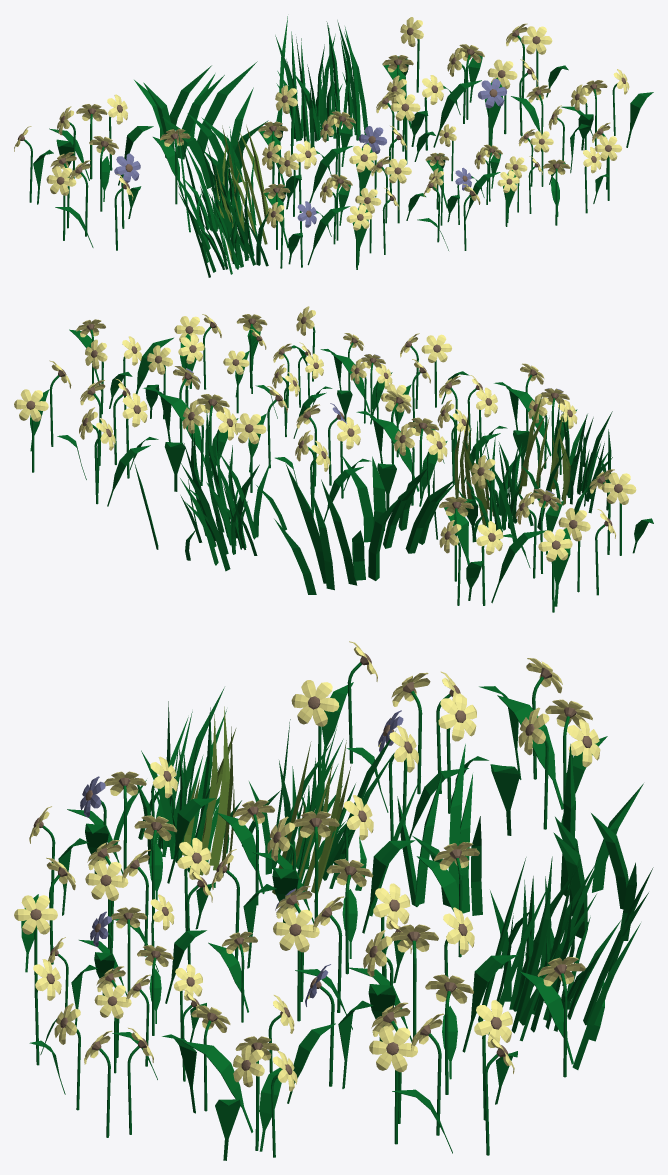
The model's file is Meadow.fbx.
3 views of the same model, one above another, from view 1: azimuth 30°, elevation 25°; view 2: azimuth 150°, elevation 25°; view 3: azimuth 270°, elevation 25° (orthographic). The views are drawn at different scales.
Parts seen in each view (by area): view 1: Meadow; view 2: Meadow; view 3: Meadow.
Boxes of the visible parts, x1,y1,x2,y2 form: Meadow: (14,16,653,277); Meadow: (14,306,653,612); Meadow: (14,641,653,1160).
Size of the model in its own units: 481 by 299 by 99.54.
